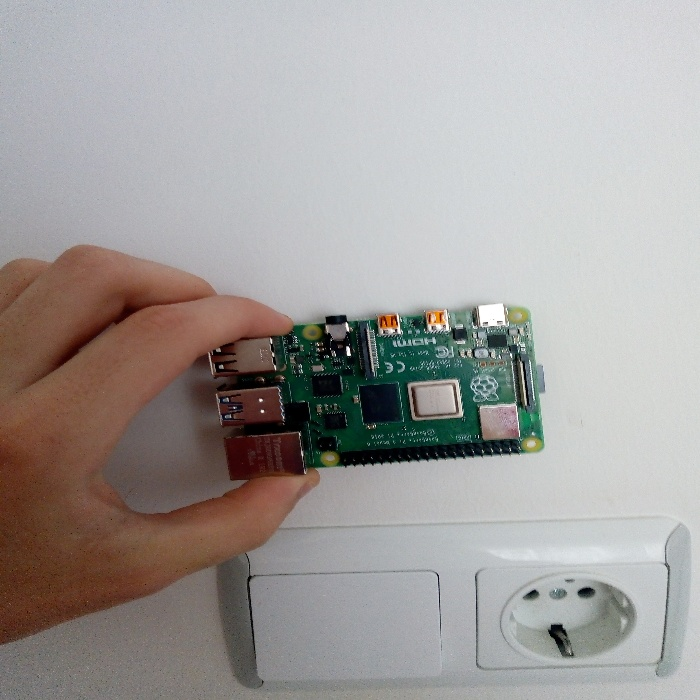raspberry: (202, 284, 550, 497)
